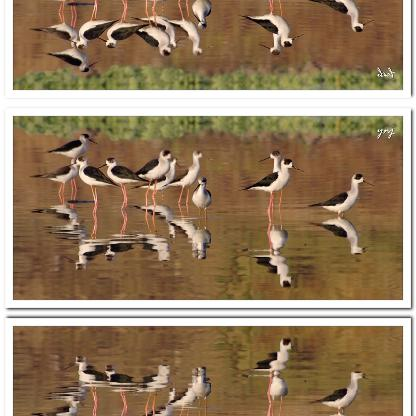Bird: (242, 155, 304, 217), (67, 156, 123, 212), (242, 0, 304, 50), (300, 173, 370, 217), (67, 0, 124, 48), (97, 0, 153, 47), (98, 158, 152, 206), (300, 0, 370, 32), (165, 149, 208, 201), (165, 3, 208, 55), (136, 146, 172, 196), (136, 8, 172, 58), (30, 158, 80, 192), (30, 12, 80, 46), (48, 132, 96, 162), (145, 156, 178, 199), (145, 5, 178, 48), (48, 43, 96, 72), (191, 174, 211, 218), (191, 0, 212, 31), (258, 149, 280, 171), (258, 33, 280, 55)
